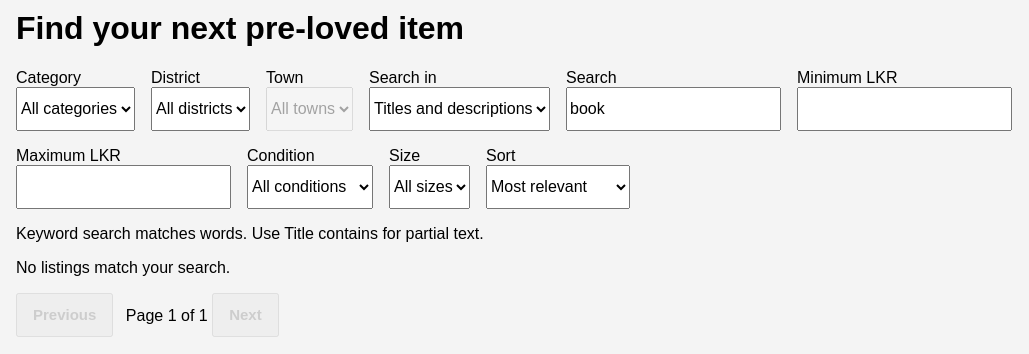
keyword search uses q, resets pagination, and supports relevance or literal title mode
The image size is (1029, 354).
Check: the text "No listings match your search." is shown, box [16, 259, 230, 276]
Check: the dropdown labelled "Sort" shows "Most relevant", box [486, 165, 630, 209]
Replace the text in the field labelled "Search" with "lamp" at (674, 109), box [566, 87, 781, 131]
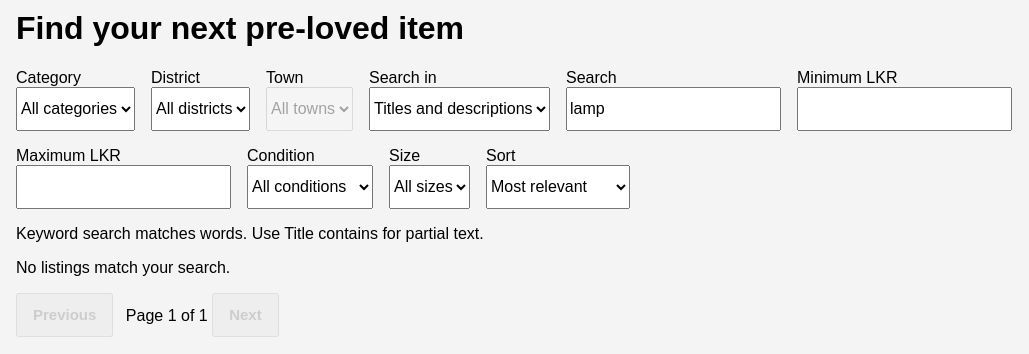
Select "Title contains" in the dropdown labelled "Search in" at (460, 109), box [369, 87, 550, 131]
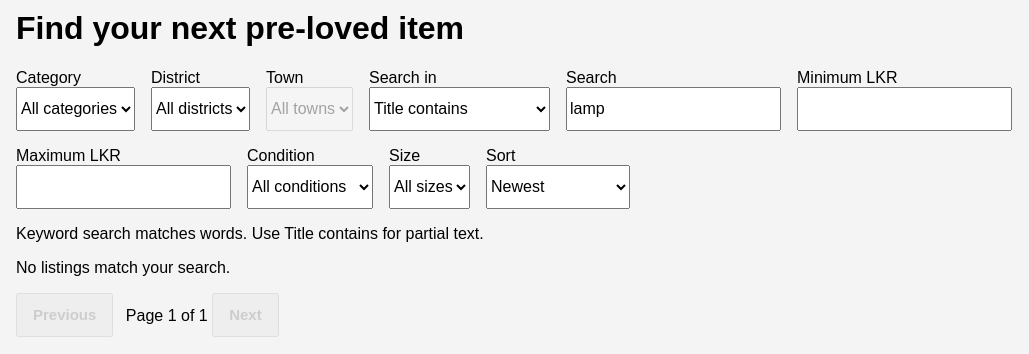
Check: the dropdown labelled "Sort" shows "Newest", box [486, 165, 630, 209]
